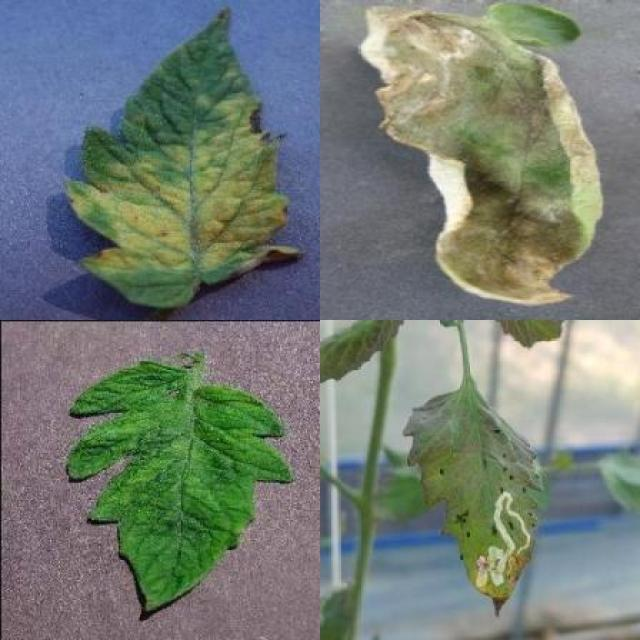Late Blight: (360, 0, 607, 307)
Leaf Miner: (404, 377, 544, 617)
Leaf Mold: (64, 7, 302, 310)
Mosaic Virus: (65, 358, 298, 615)
